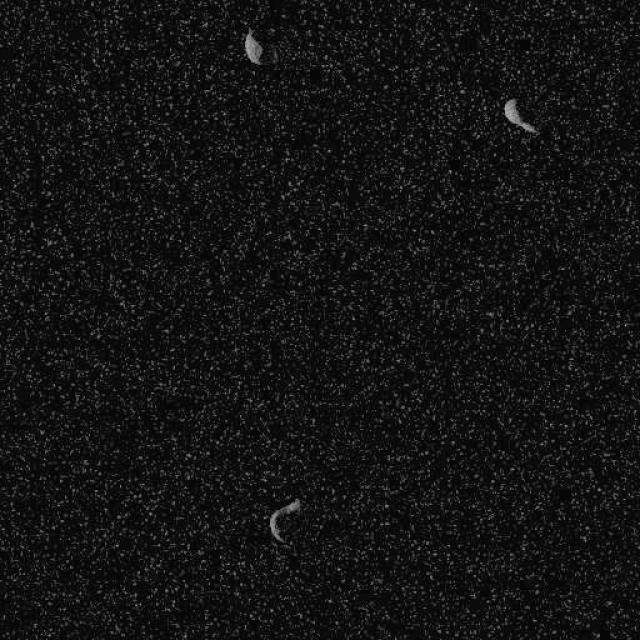D2: (268, 498, 302, 544), (502, 96, 538, 135), (242, 28, 264, 64)
